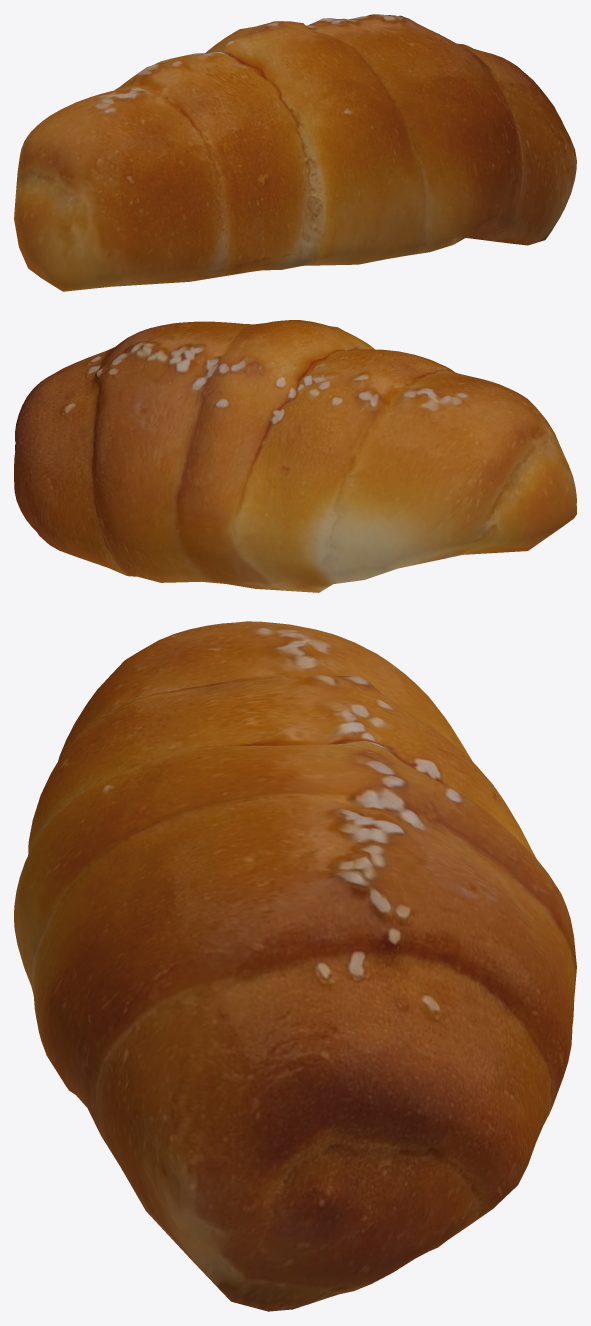
Rendered from salt_bread.glb.
The picture shows the model from 3 angles, top to bottom: view 1: azimuth 30°, elevation 25°; view 2: azimuth 150°, elevation 25°; view 3: azimuth 270°, elevation 25°; orthographic projection. The views are drawn at different scales.
Visible parts, largest first — view 1: export_0; view 2: export_0; view 3: export_0.
Boxes of the visible parts, x1,y1,x2,y2 form: export_0: (14, 14, 576, 291); export_0: (14, 320, 576, 592); export_0: (14, 621, 576, 1311).
Bounding box in the file's own units: 0.5567 × 0.2406 × 0.3177.
Materials: 1 (1 with a texture image).
